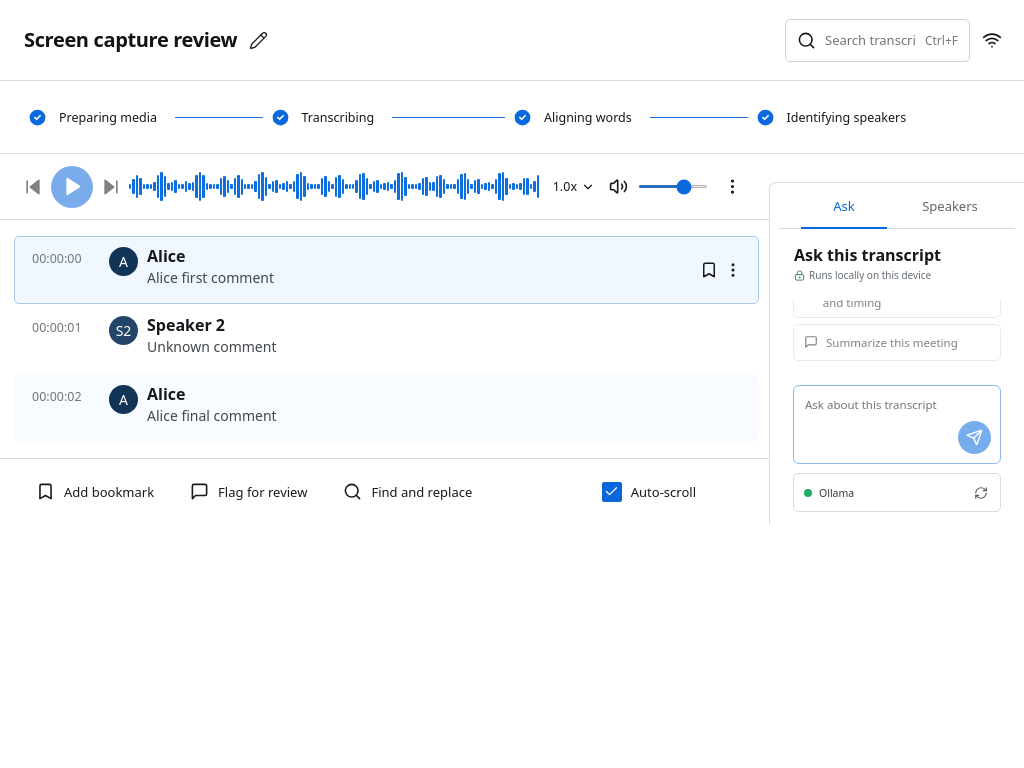
it: TranscriptView speaker filtering › filters identified and unknown speakers and restores all turns
The image size is (1024, 768).
(page scrolled)
Click the tab "Speakers". click: (950, 206)
box: [897,183,1003,228]
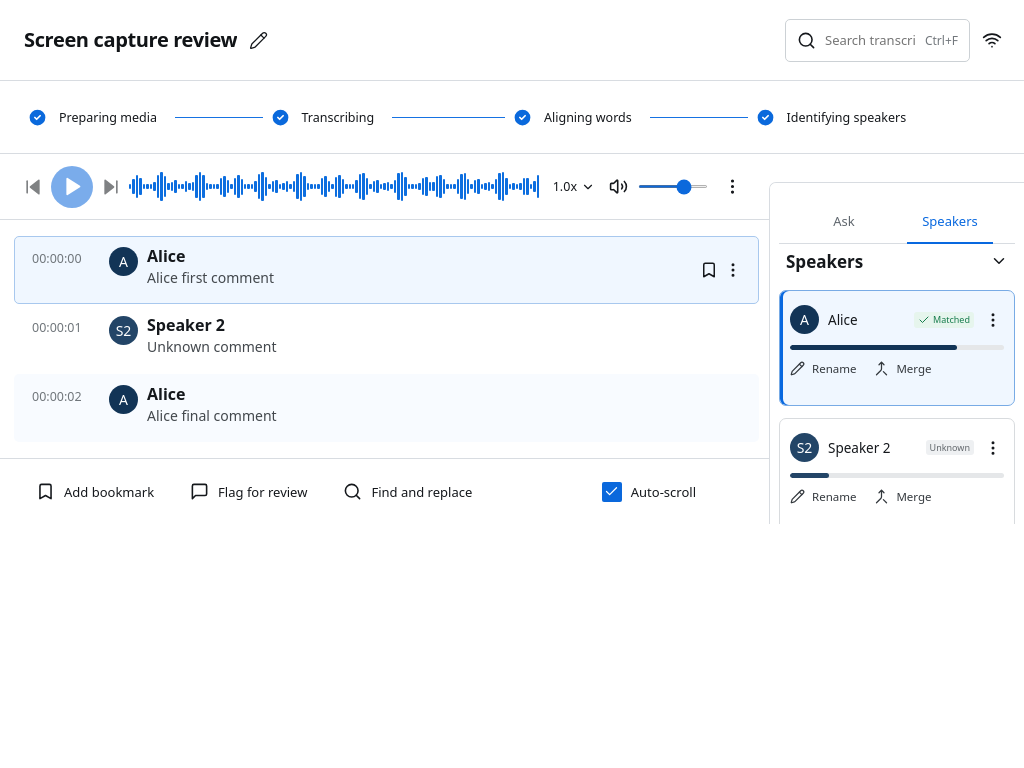
Click the button with aria-label "Show only Alice". click: (867, 320)
box: [828,310,906,328]
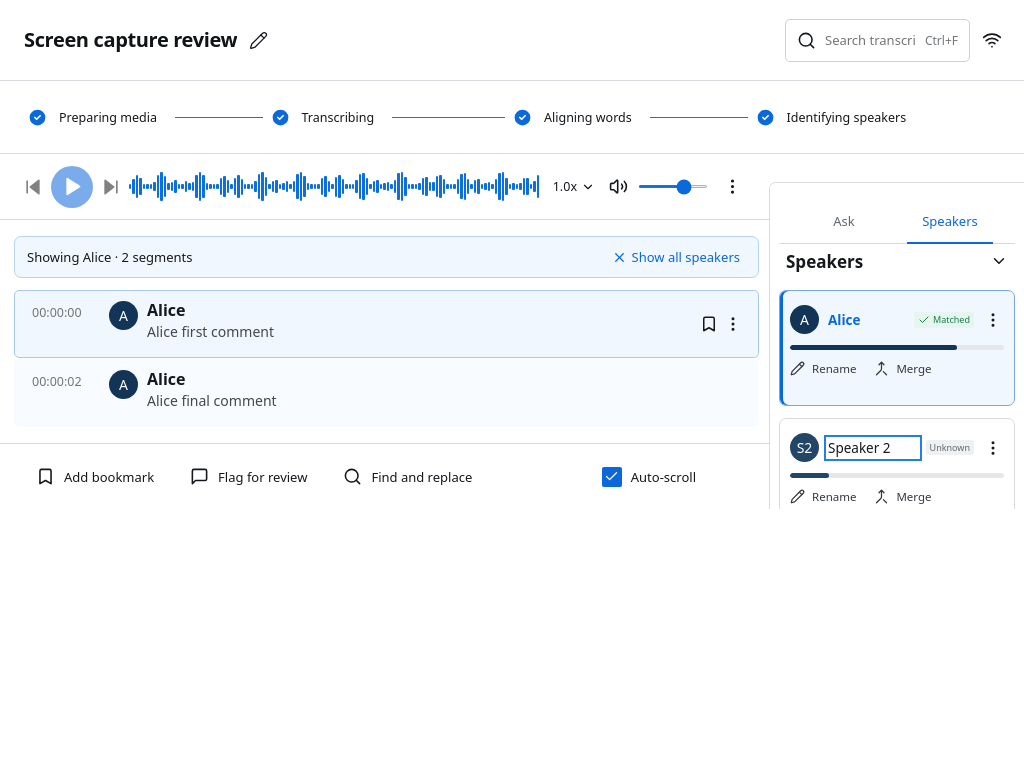
Expected: the field "Alice first comment" is shown, [147,322,274,341]
Now the field "Unknown comment" is gone
Type keys " "
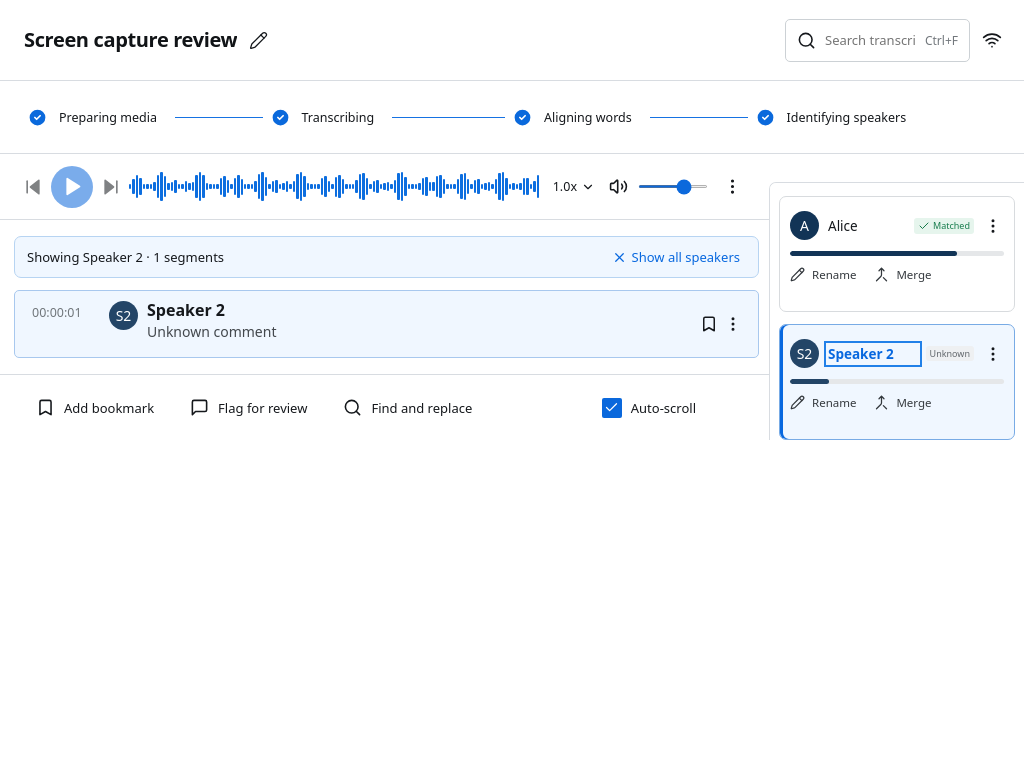
Now the field "Alice first comment" is gone
Now the field "Unknown comment" is shown, box [147,322,276,341]
Click the button "Show all speakers". click: (676, 257)
box: [606,247,746,267]
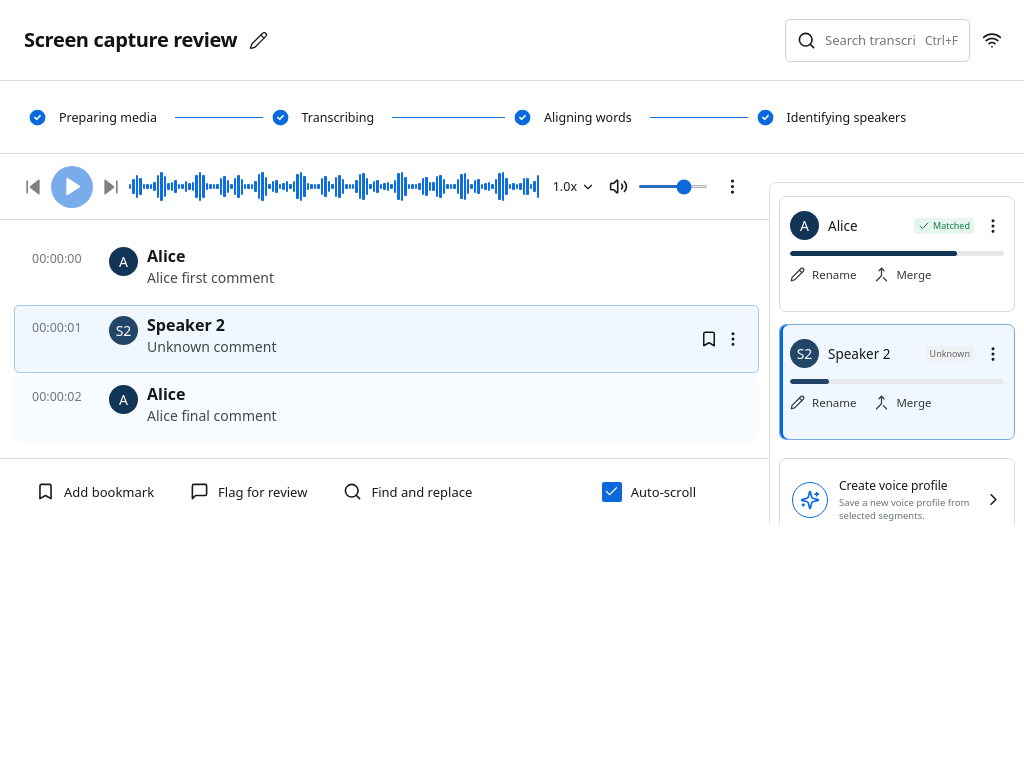
Now the field "Unknown comment" is shown, box [147,337,276,356]
Now the field "Alice first comment" is shown, box [147,268,274,287]
